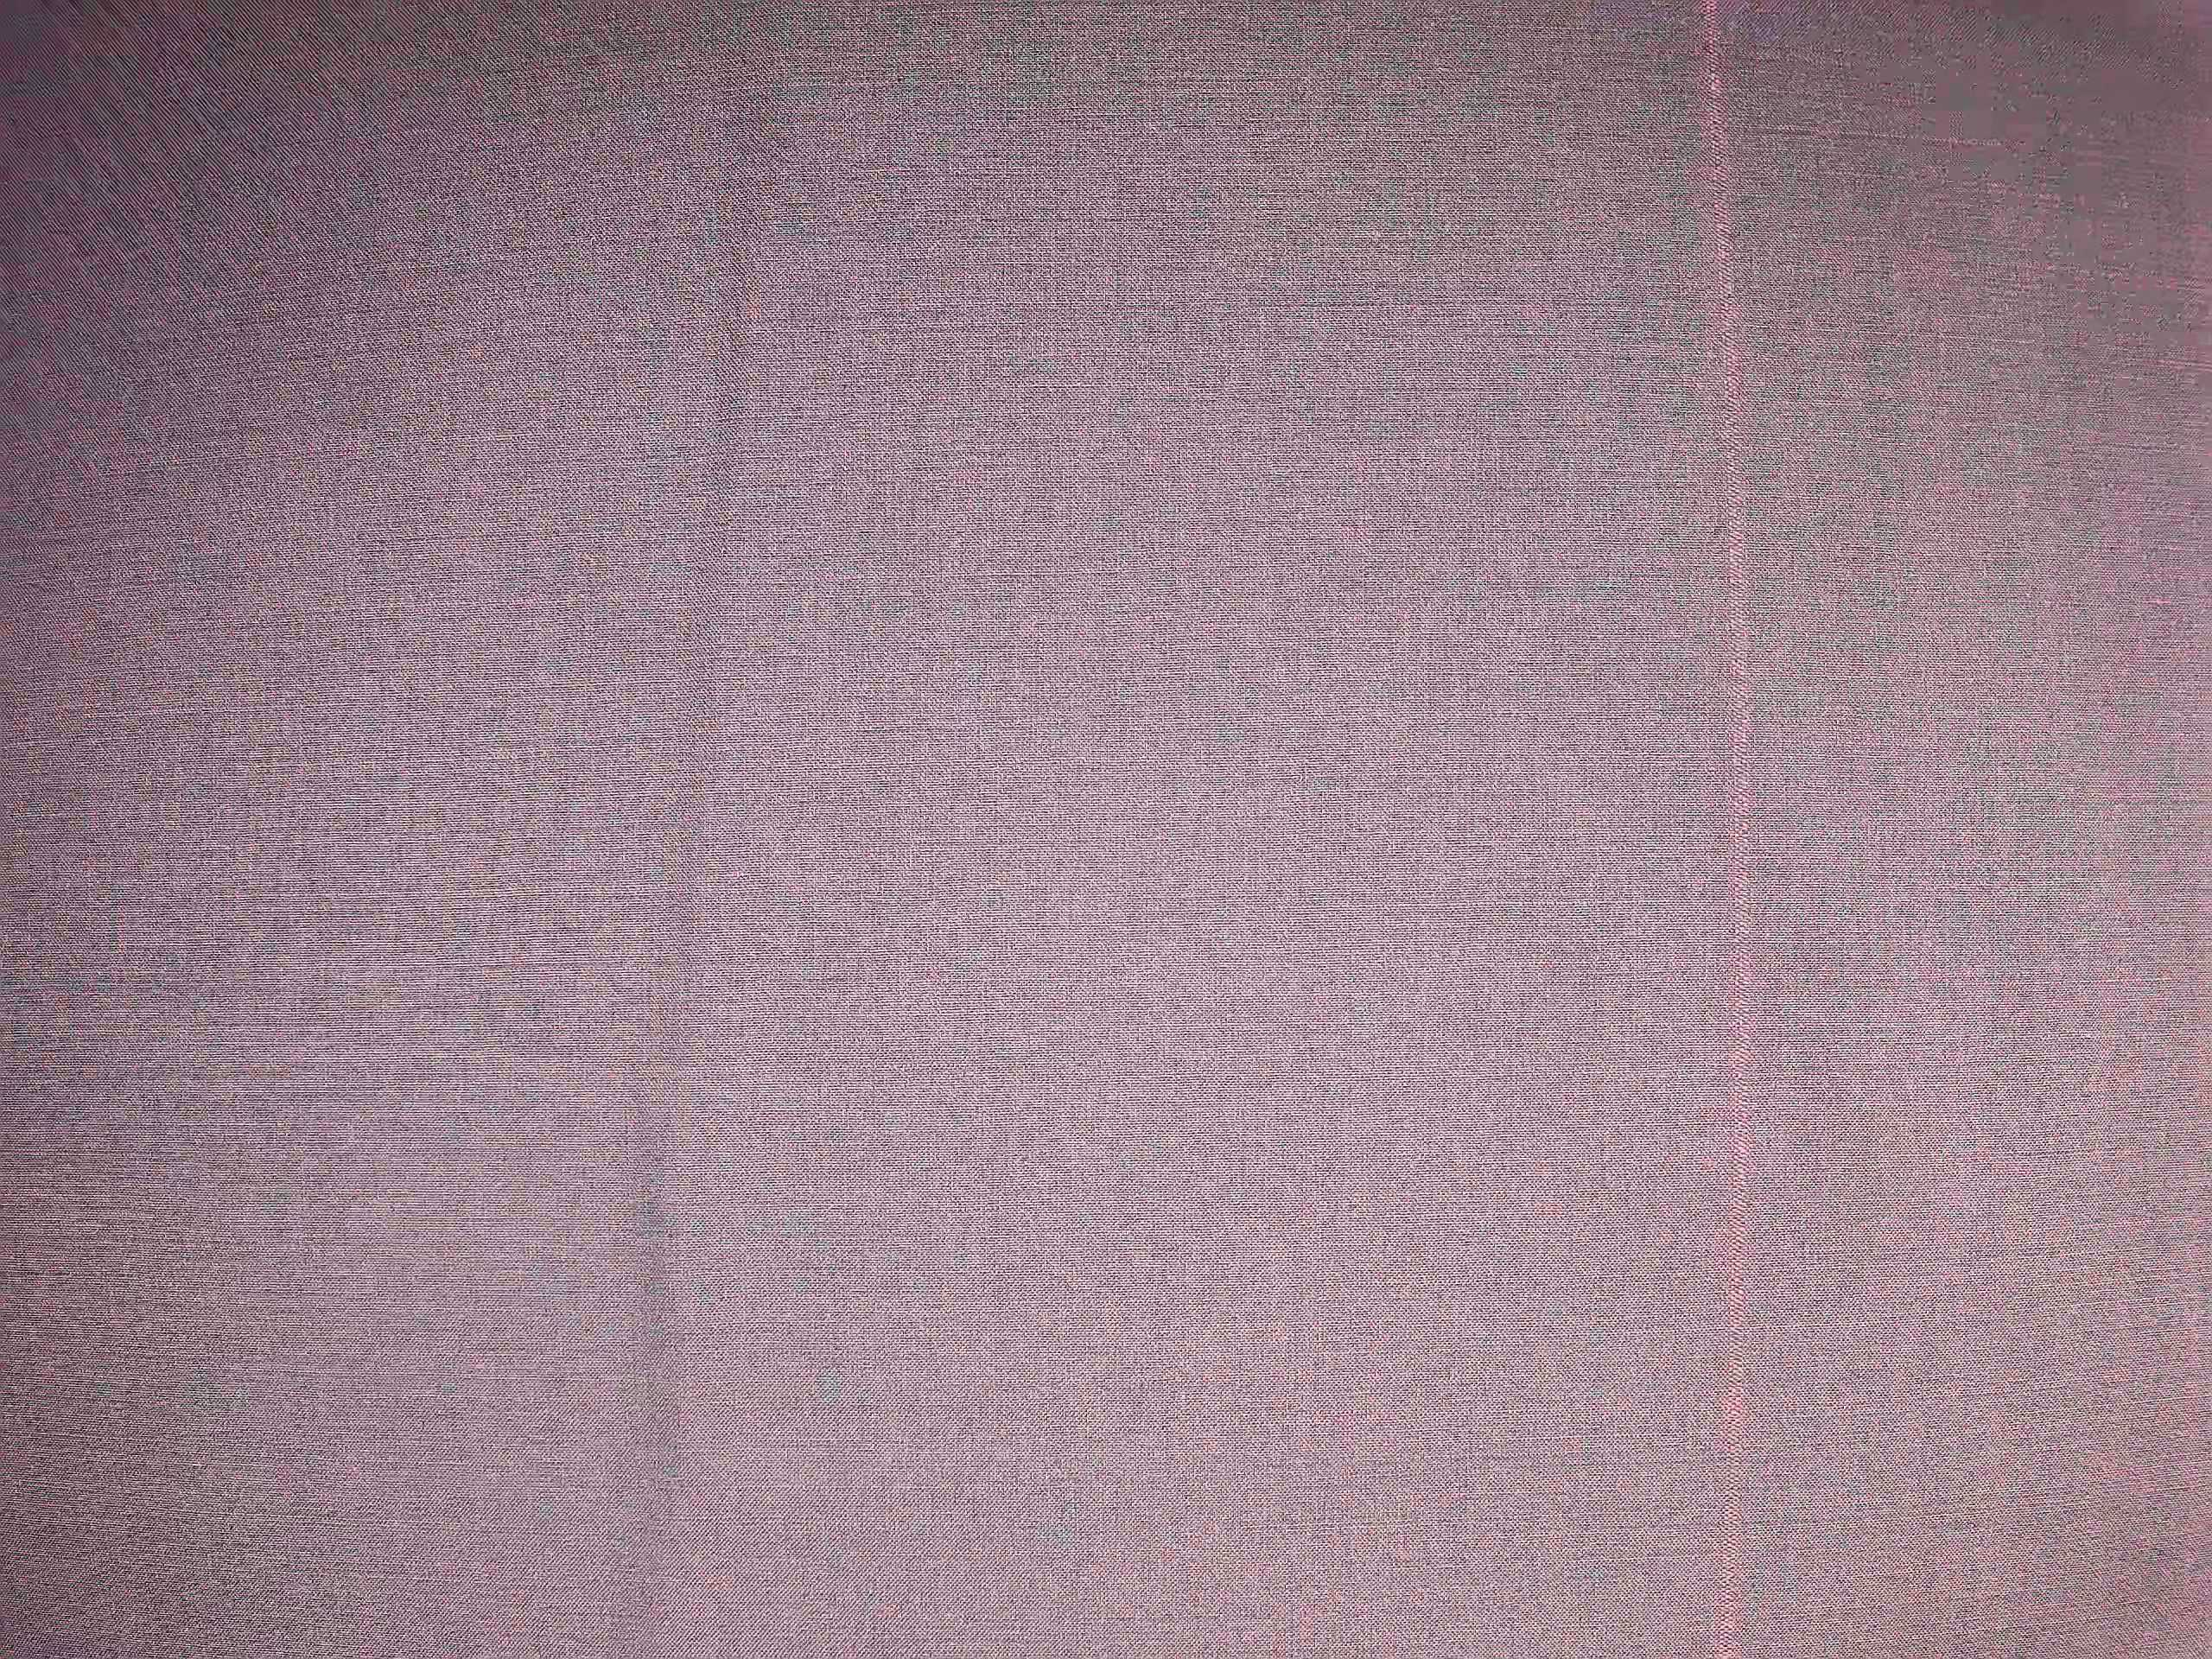lacking-warp: (1684, 16, 1770, 1649)
